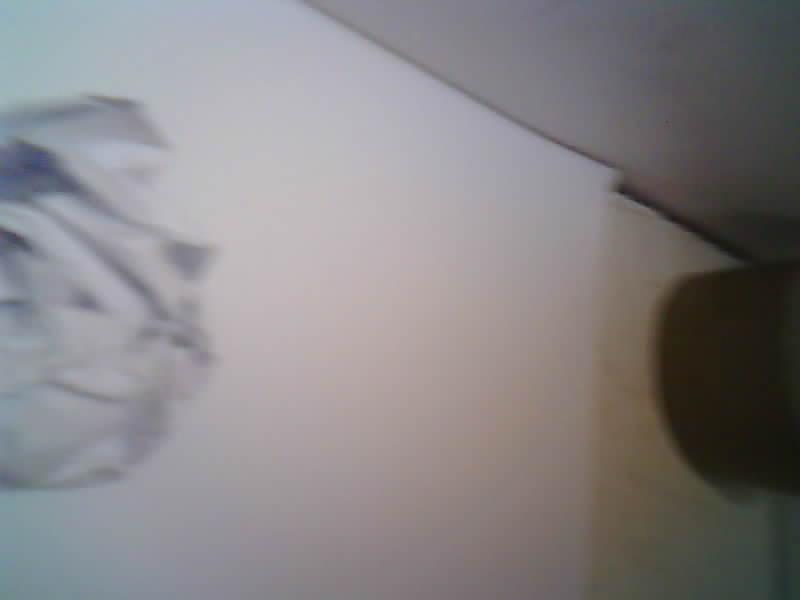biodegradable: (0, 97, 213, 488)
